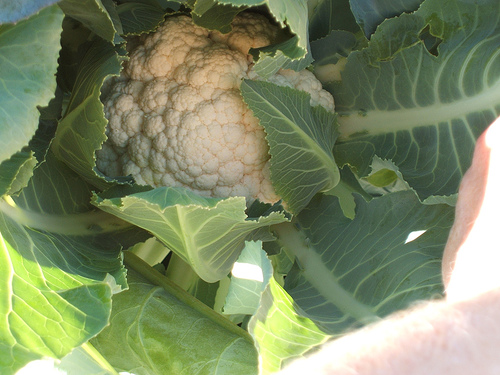cauliflower: (84, 0, 337, 212)
